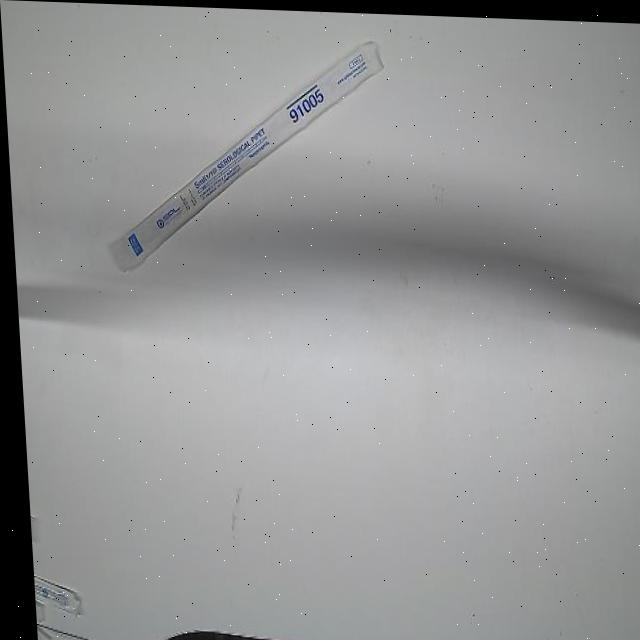Serelogical Pipet 5 mL - Sealed: (97, 27, 397, 284)
